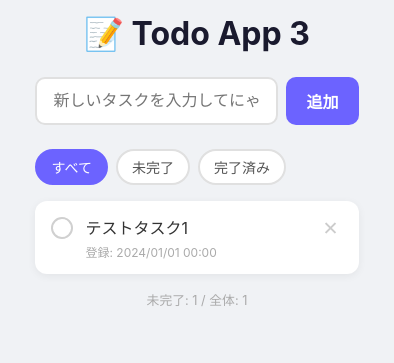
Test case: TodoApp › Todo完了切り替え（楽観的更新） › 更新に失敗するとエラーが表示されて元の状態に戻る
This screenshot has width=394, height=363.
Expected: the text "テストタスク1" is shown, [86, 218, 188, 238]
Click the element with class "todo-checkbox" at (62, 228), box [52, 217, 74, 239]
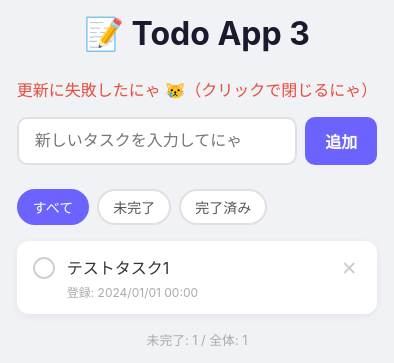
Now the text "更新に失敗したにゃ 😿（クリックで閉じるにゃ）" is shown, box [17, 77, 377, 101]
